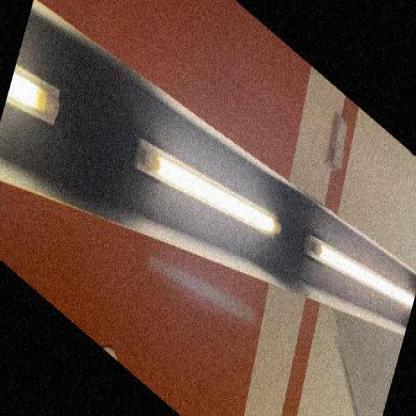light_on: (123, 87, 291, 296), (298, 201, 415, 352), (4, 41, 72, 152)
